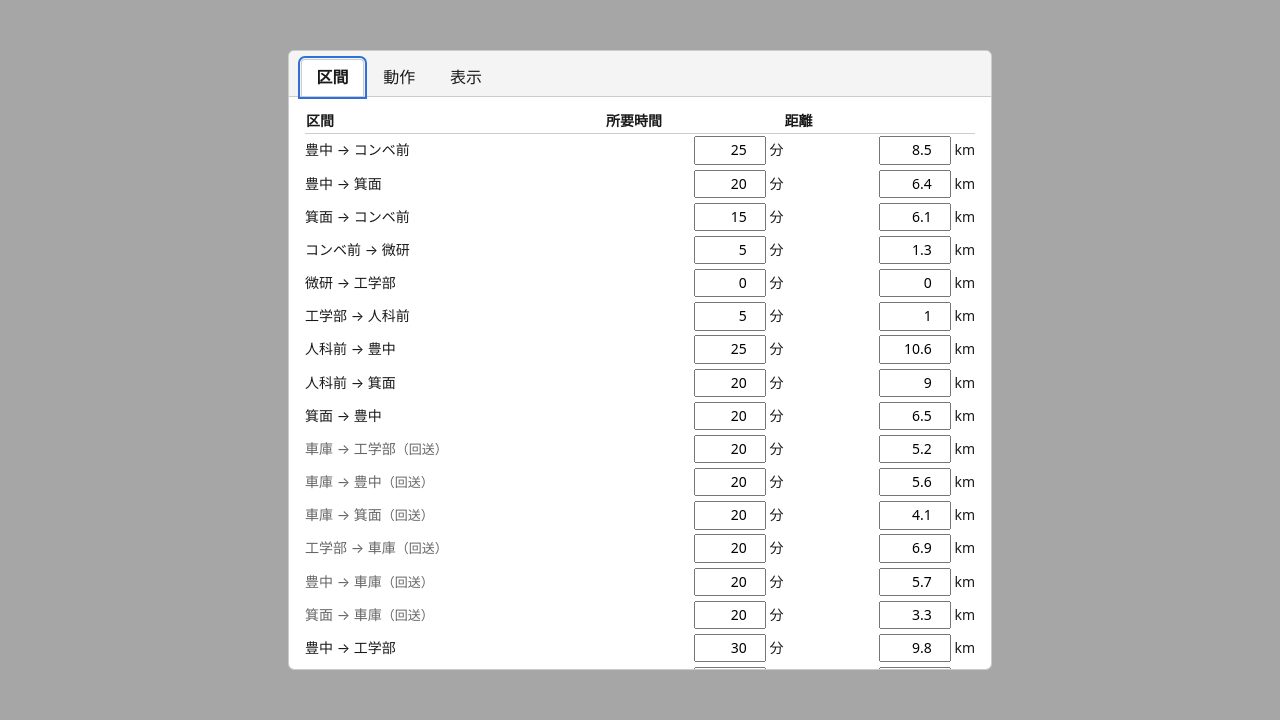
Test: 表示タブ（§6.5.3） › 停留所の線種 › **上書きが無ければ戻す押しボタンは押せない**（押しても何も起きない操作を出さない）
The width and height of the screenshot is (1280, 720).
Click the tab "表示" at point(466, 78), box [435, 59, 497, 96]
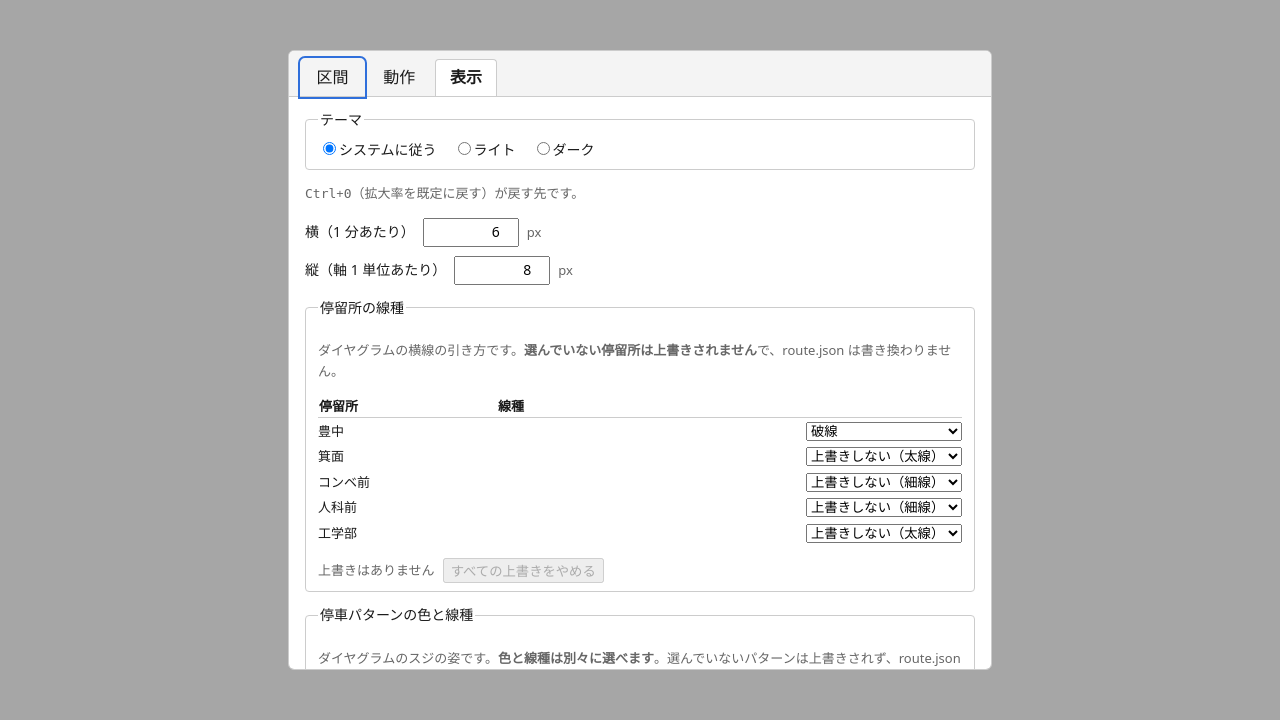
Now the button "すべての上書きをやめる" is disabled, box [443, 558, 604, 583]
Select "破線" in the dropdown named "豊中 の線種" at point(884, 431), box [806, 422, 962, 441]
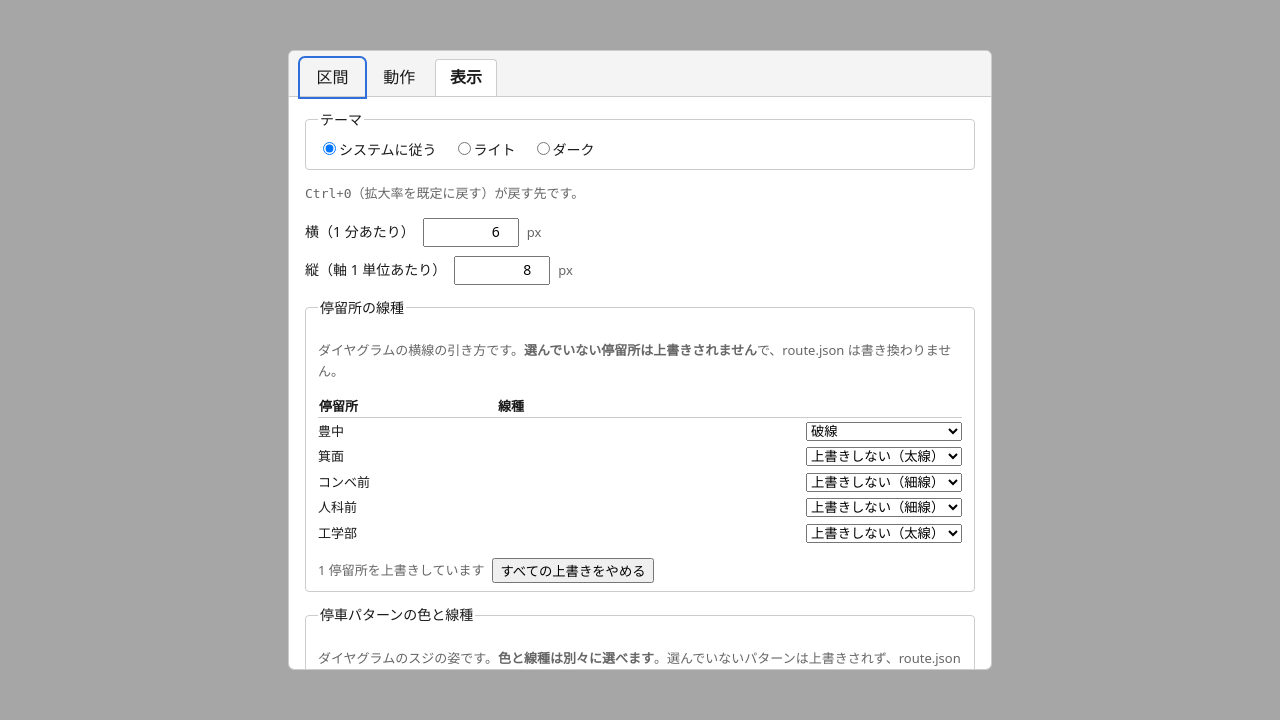
Now the button "すべての上書きをやめる" is enabled, box [492, 558, 654, 583]
